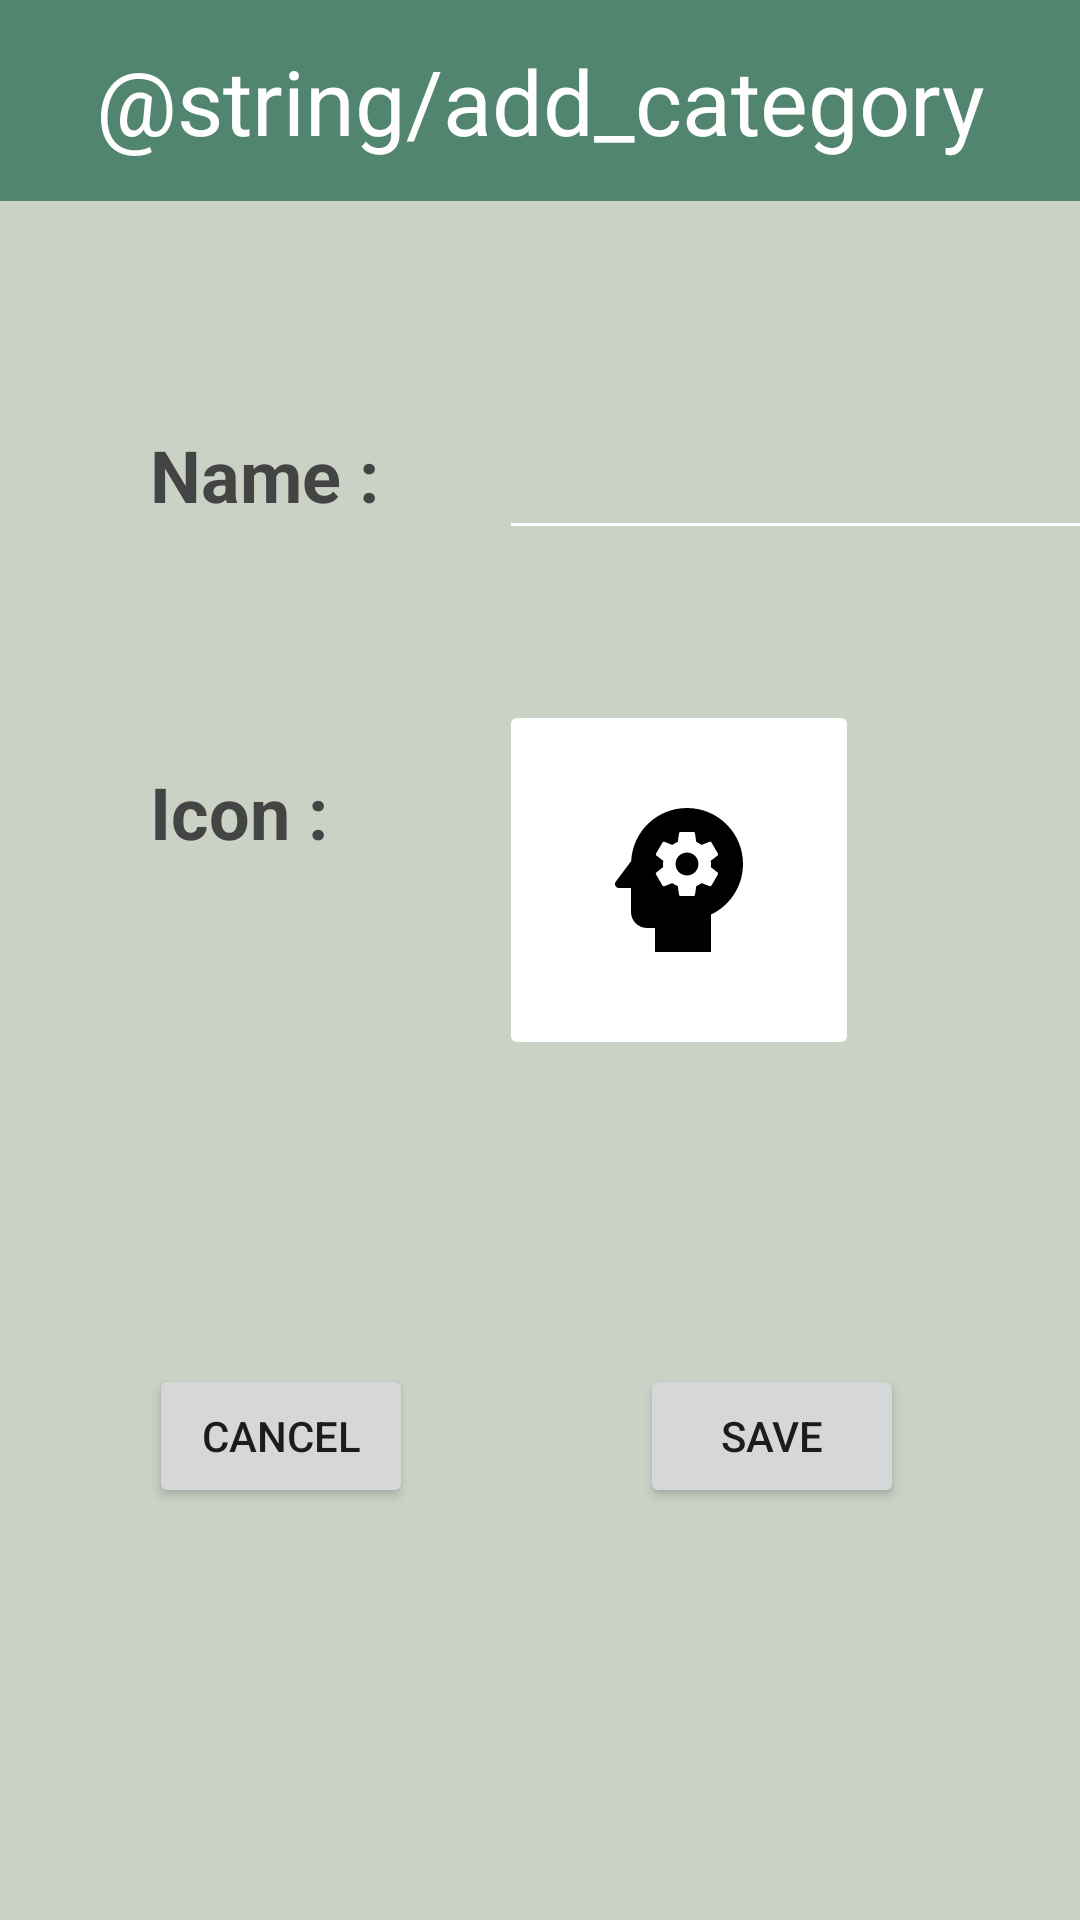

Icon click points for this 1080*1920 phone screenshot, format (x,y):
category mental health: (679,880)
